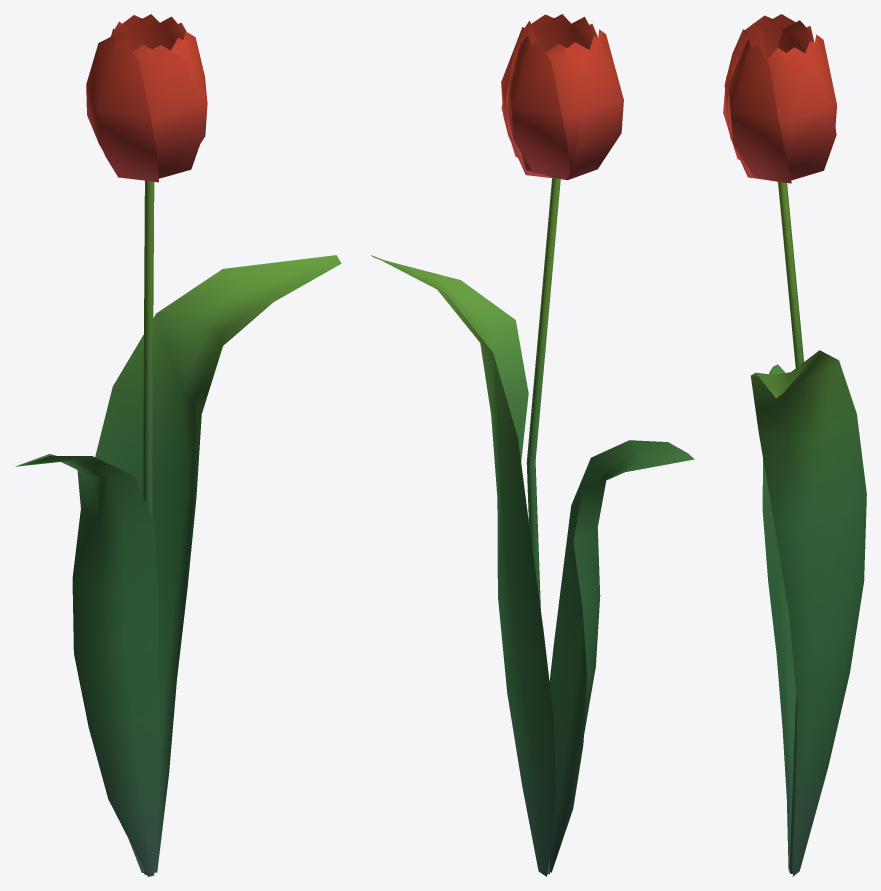
File: flower_008_base_material_0.fbx
The picture shows the model from 3 angles, left to right: view 1: azimuth 30°, elevation 25°; view 2: azimuth 150°, elevation 25°; view 3: azimuth 270°, elevation 25°; orthographic projection.
Visible parts, largest first — view 1: flower_008_base_material_0; view 2: flower_008_base_material_0; view 3: flower_008_base_material_0.
Part boxes in pixels (x1,y1,x2,y2): flower_008_base_material_0: (15, 14, 341, 876); flower_008_base_material_0: (371, 14, 694, 876); flower_008_base_material_0: (723, 14, 866, 876).
Size of the model in its own units: 0.9088 by 0.3527 by 2.27.
Materials: 1 (1 with a texture image).
